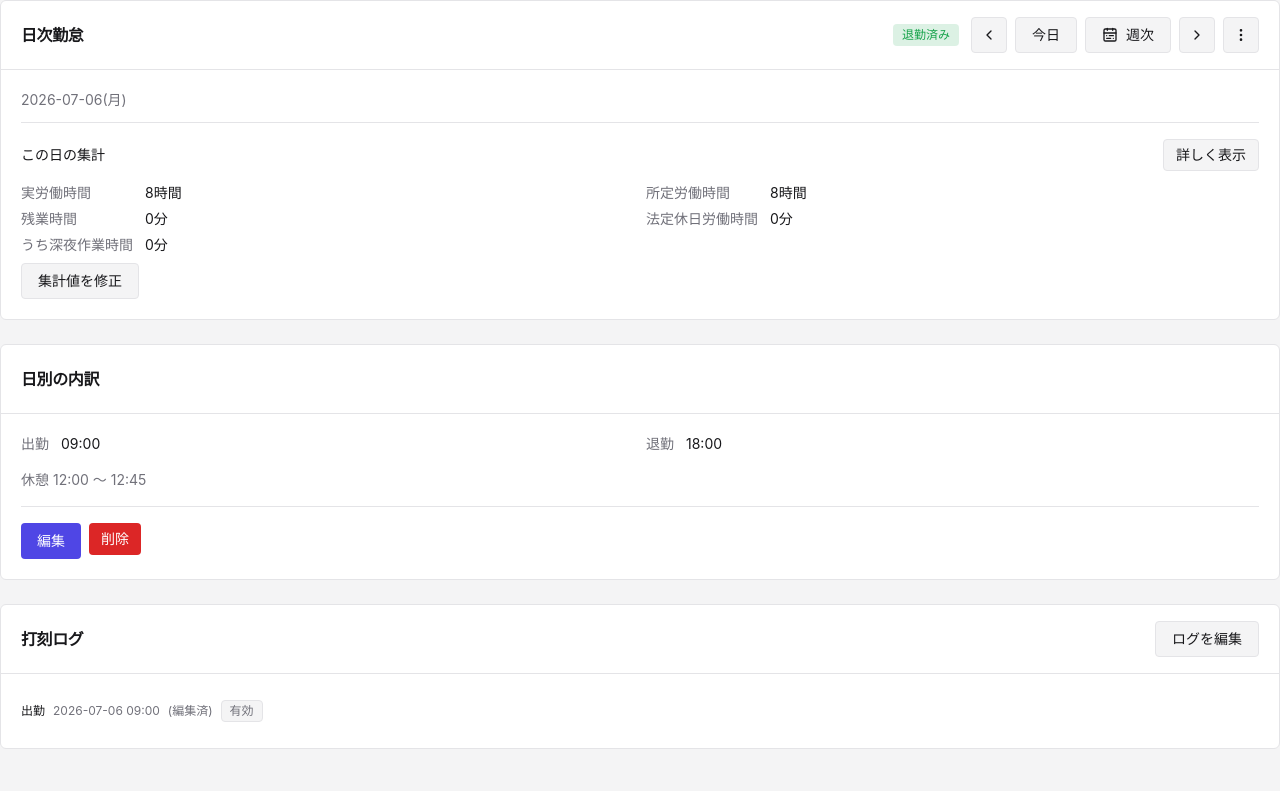
AttendanceDayPage › shows only active punches by default and marks a corrected replacement as edited
The image size is (1280, 791).
Check: the text "(編集済)" is shown, box x1=168 y1=703 x2=213 y2=719
Check: the text "訂正済み" is not shown
Click the button "ログを編集": (1207, 639) x1=1155 y1=621 x2=1259 y2=657
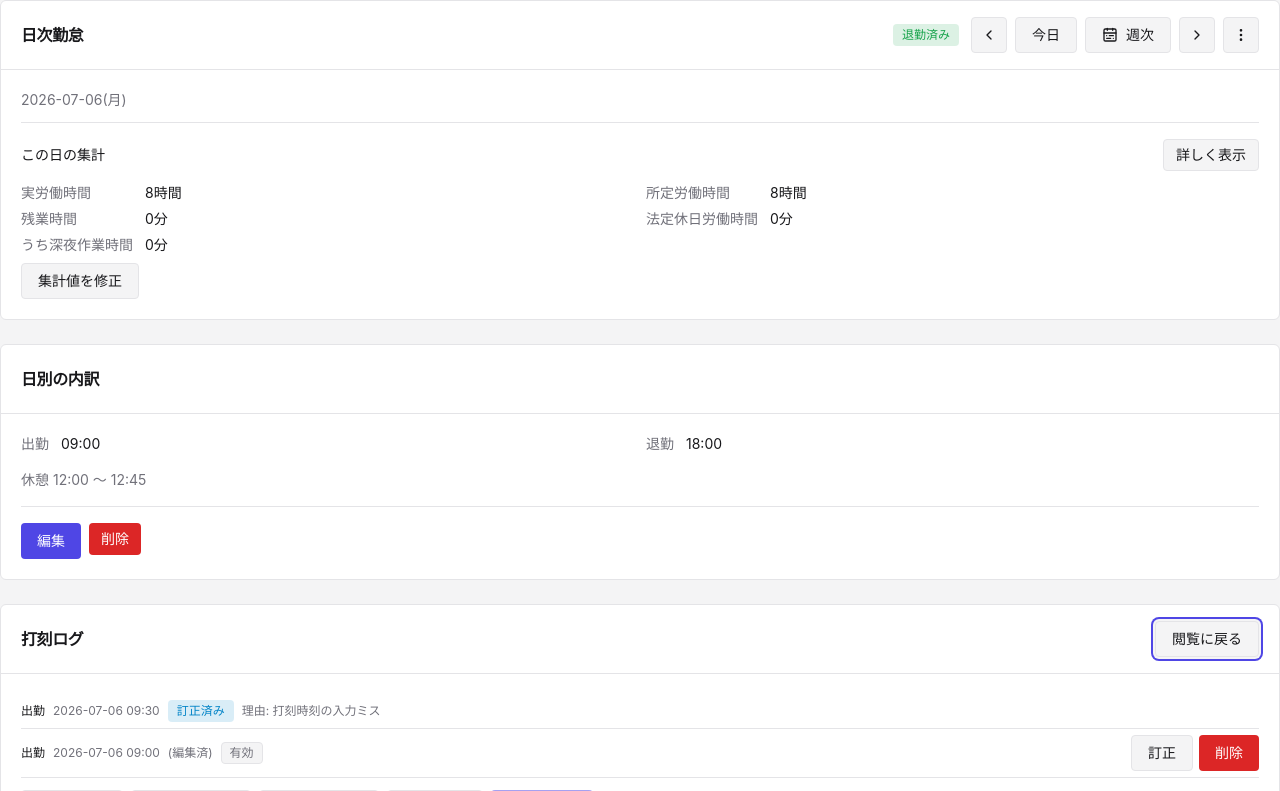
Check: the text "訂正済み" is shown, box x1=168 y1=700 x2=234 y2=722
Check: the text "理由: 打刻時刻の入力ミス" is shown, box x1=242 y1=703 x2=381 y2=719
Check: the button "閲覧に戻る" is shown, box x1=1155 y1=621 x2=1259 y2=657
